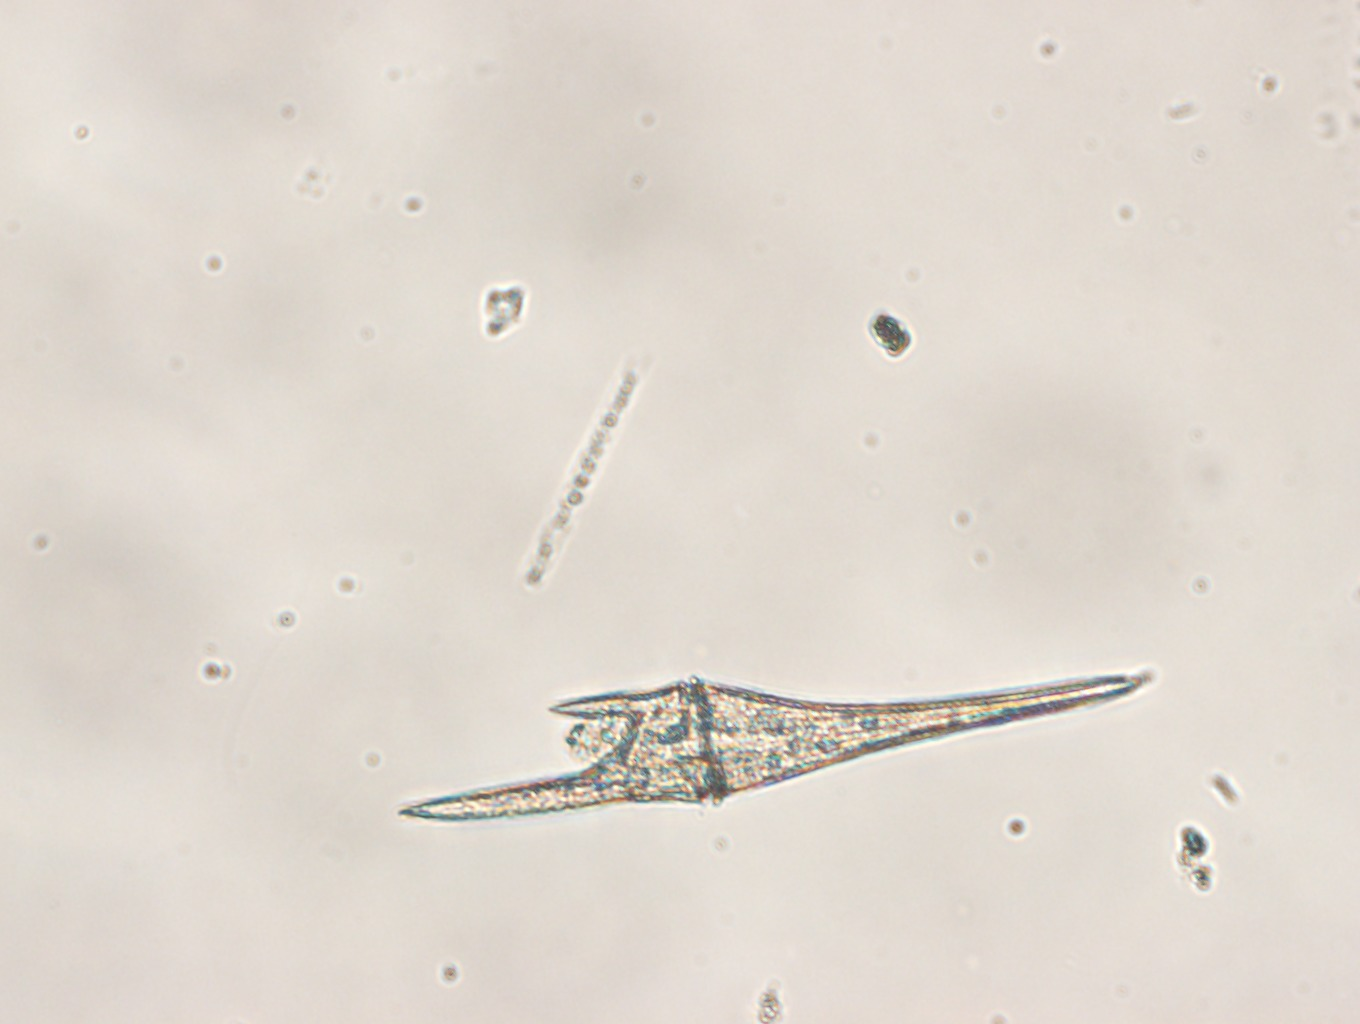ceratium furca: (398, 667, 1150, 825)
